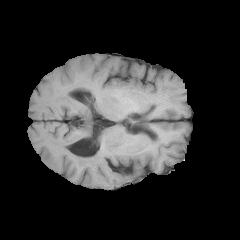glioma: (77, 136, 161, 169)
